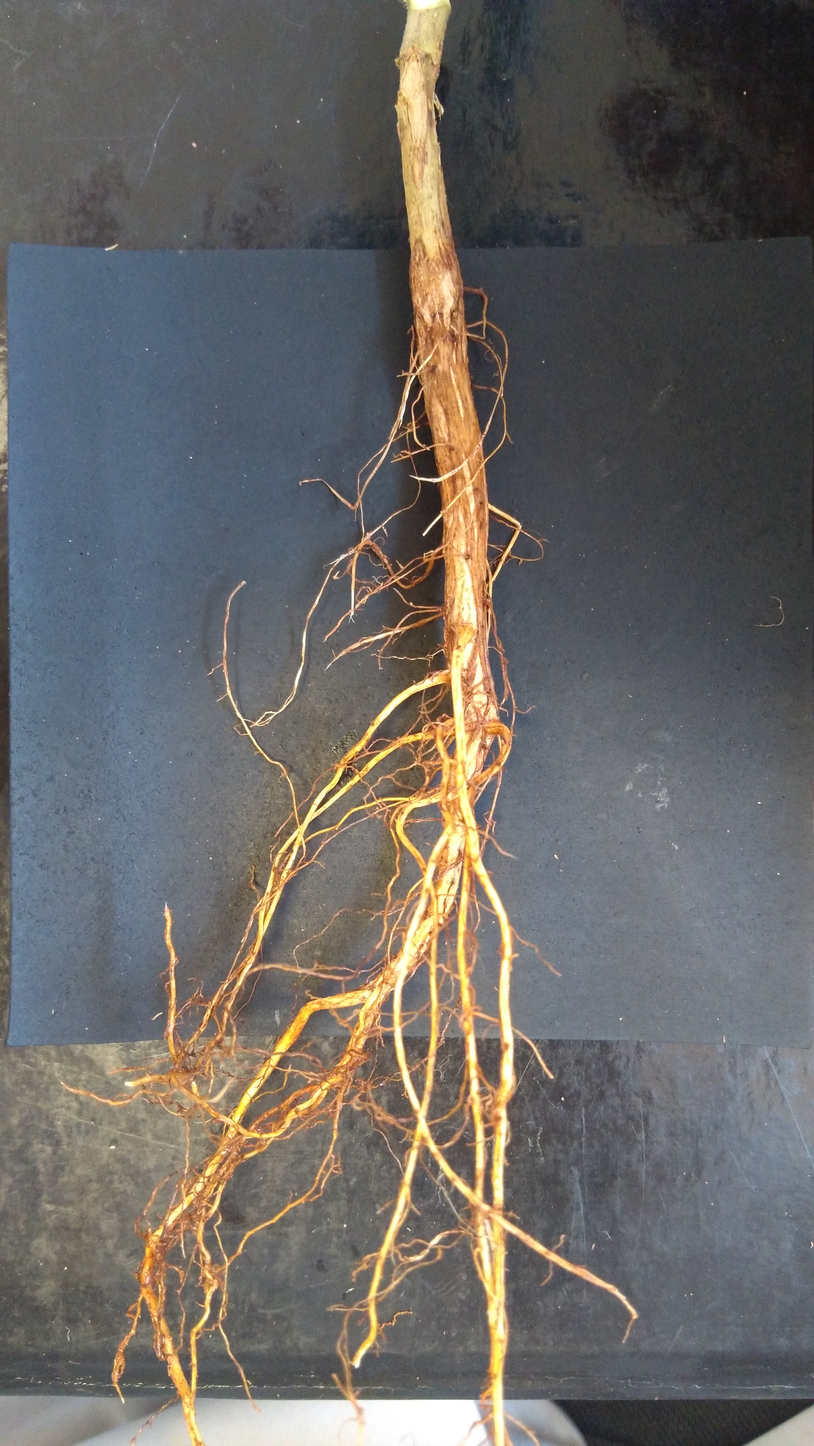nodule: (453, 623, 475, 647), (152, 1332, 165, 1360), (383, 966, 397, 986), (435, 847, 449, 866), (436, 712, 452, 727), (421, 759, 436, 769), (501, 739, 506, 746), (409, 602, 413, 606)
